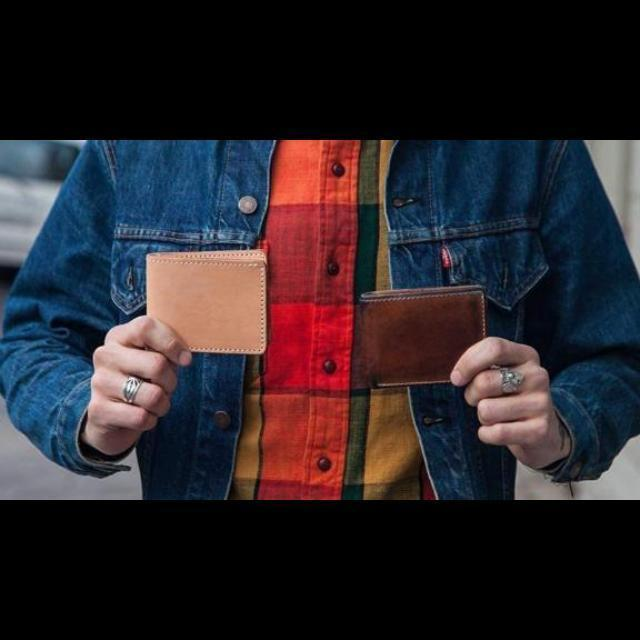wallet: (144, 248, 270, 358), (356, 287, 486, 387)
